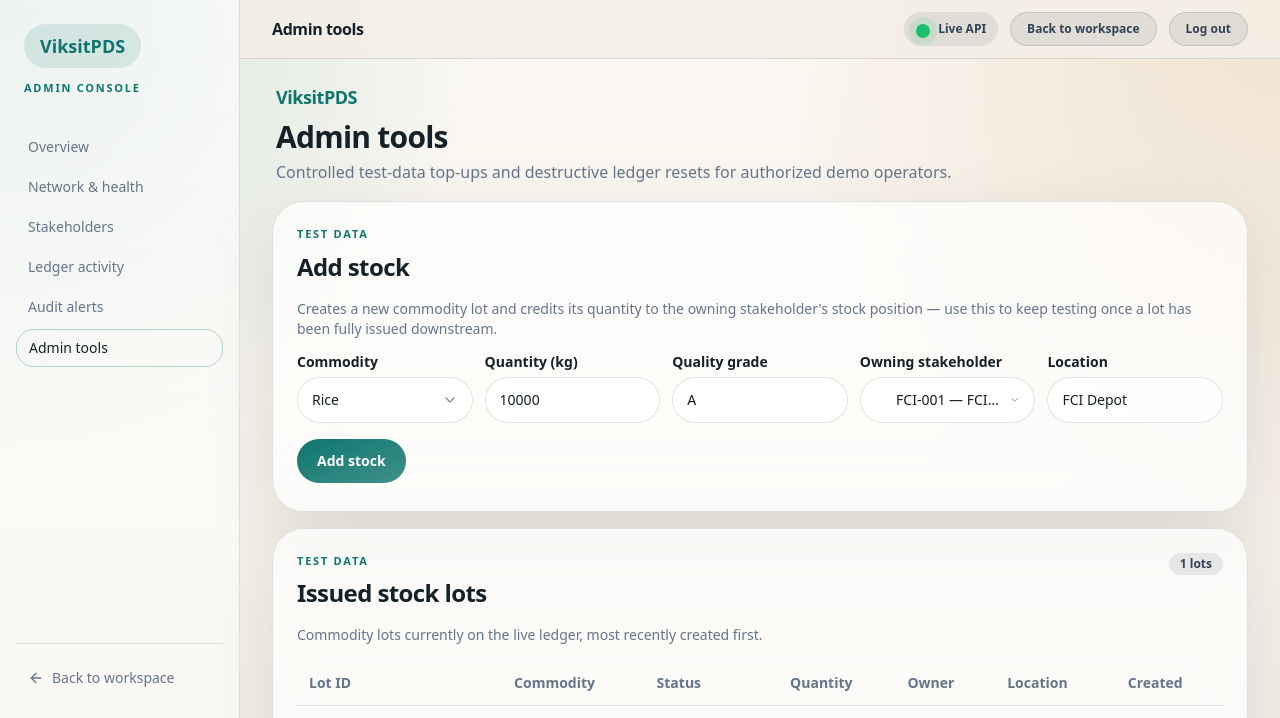
Test: Admin console › submits a new stock lot via the add-stock form and surfaces a toast
The width and height of the screenshot is (1280, 718).
Click the dropdown named "Commodity" at [385, 400], box [297,376,473,422]
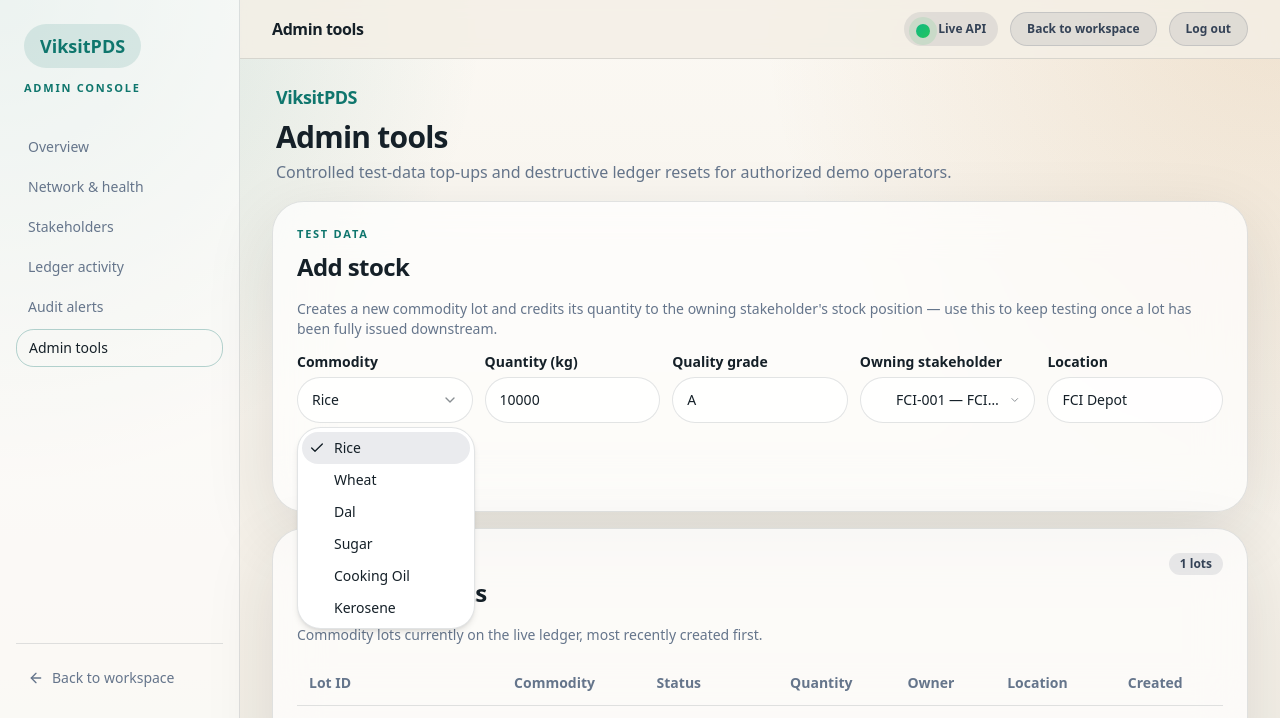
Click the option "Wheat" at [355, 480], box [334,470,376,489]
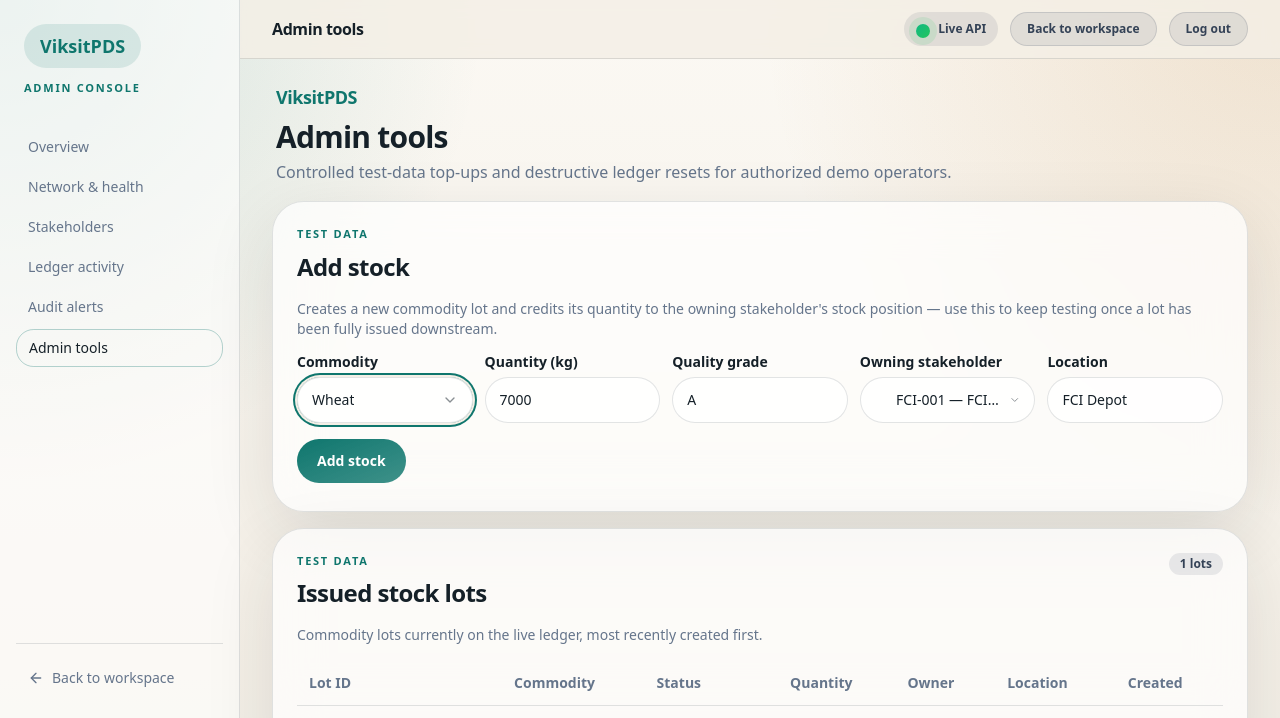
Click the button "Add stock" at [351, 460], box [297,438,406,482]
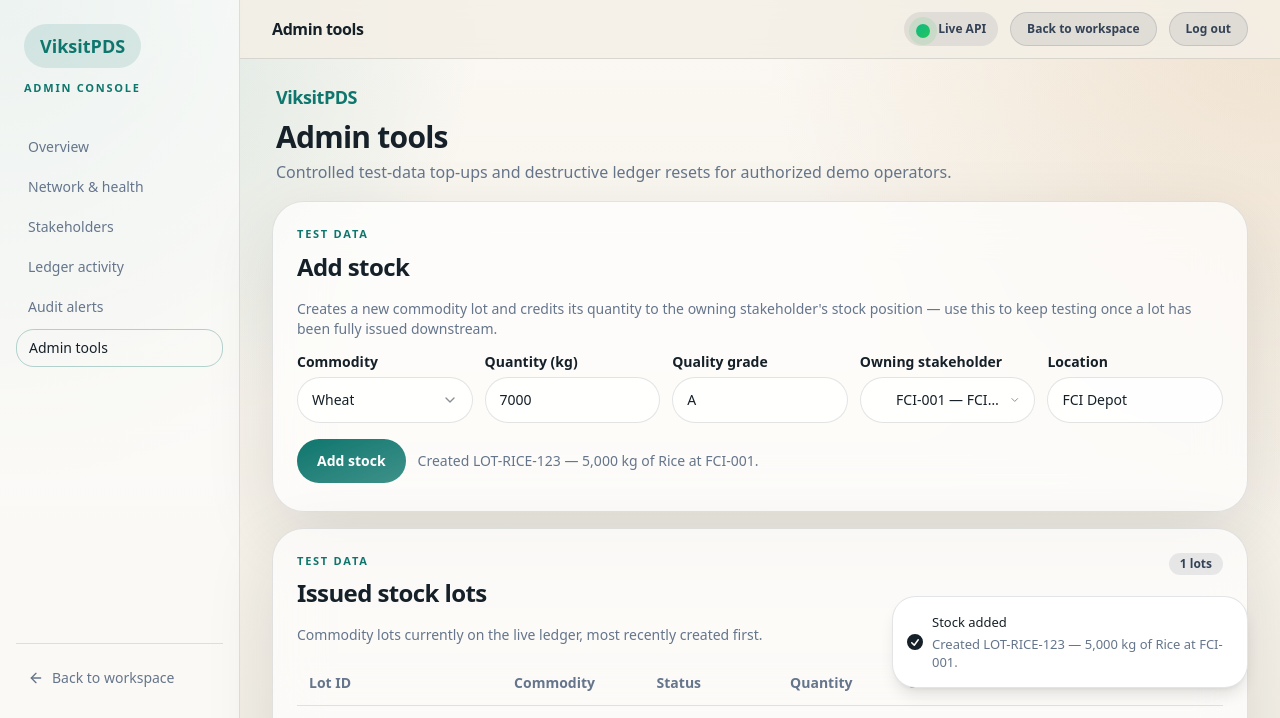
expect the text "Created LOT-RICE-123 — 5,000 kg of Rice at FCI-001." below "Stock added" is shown: met, box [932,635,1223,671]
expect the text "Stock added" is shown: met, box [932,613,1007,631]
